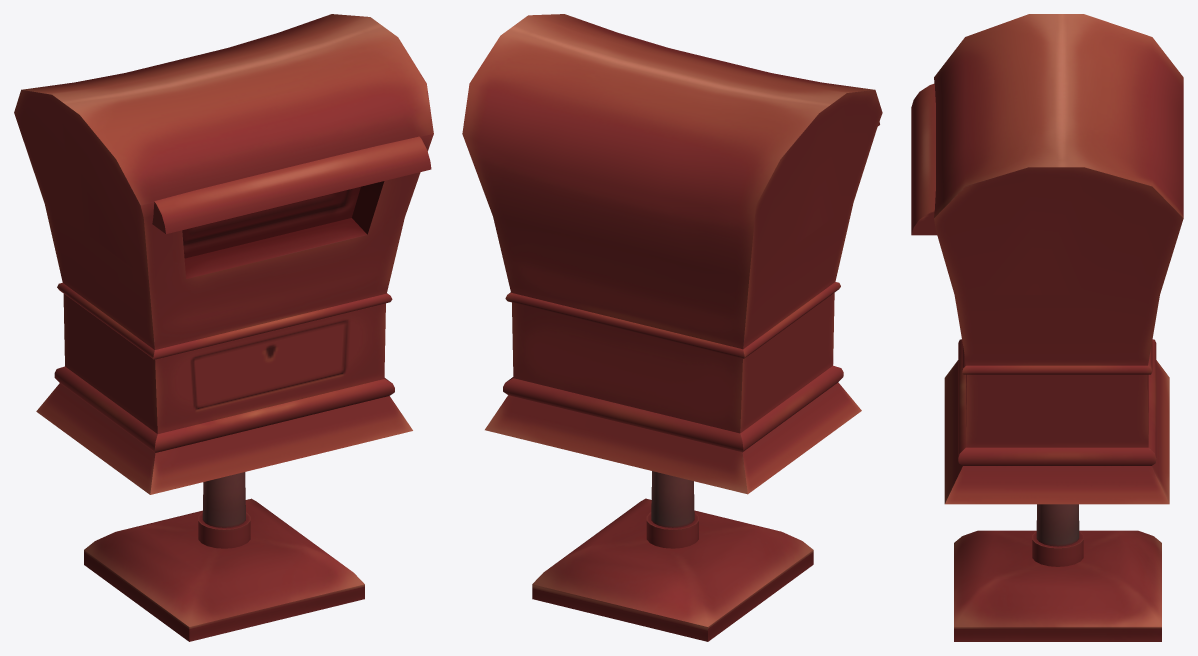
Rendered from mailboxA.fbx.
3 views of the same model, side by side, from view 1: azimuth 30°, elevation 25°; view 2: azimuth 150°, elevation 25°; view 3: azimuth 270°, elevation 25° (orthographic).
Visible parts, largest first — view 1: mailboxA; view 2: mailboxA; view 3: mailboxA.
Boxes of the visible parts, x1=… form: mailboxA: x1=14, y1=14, x2=433, y2=641; mailboxA: x1=462, y1=14, x2=882, y2=641; mailboxA: x1=911, y1=14, x2=1183, y2=641.
Bounding box in the file's own units: 37.07 × 57.46 × 27.84.
